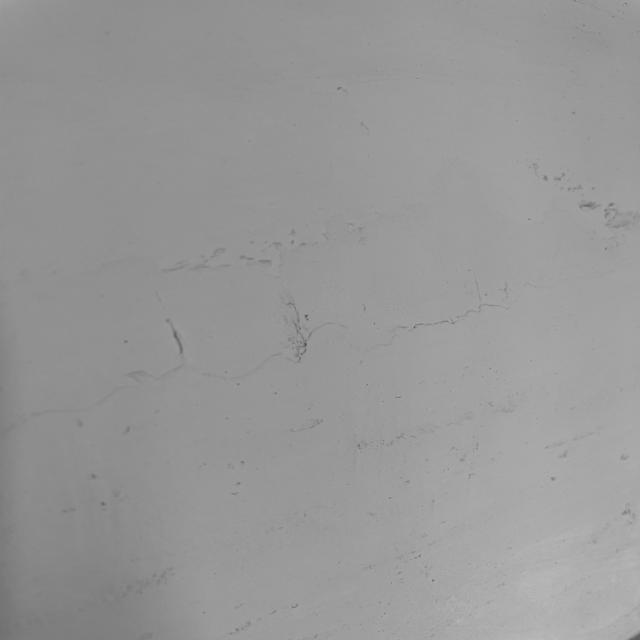rough and patchy surface: (30, 213, 639, 640)
